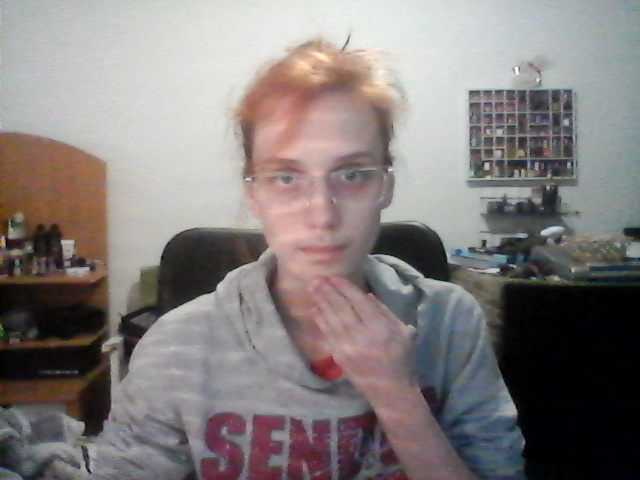dakujem: (289, 270, 426, 392)
